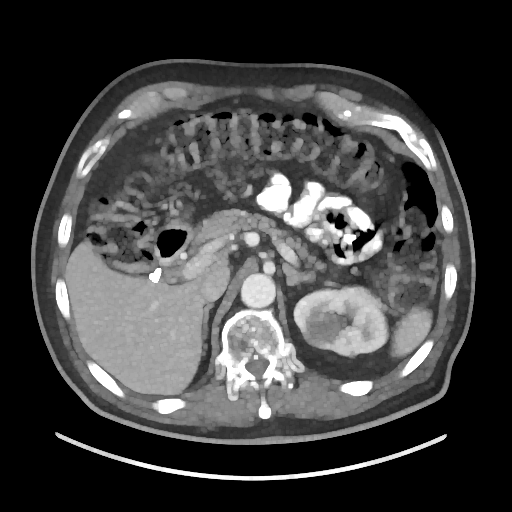Lesion: (305, 305, 343, 352)
